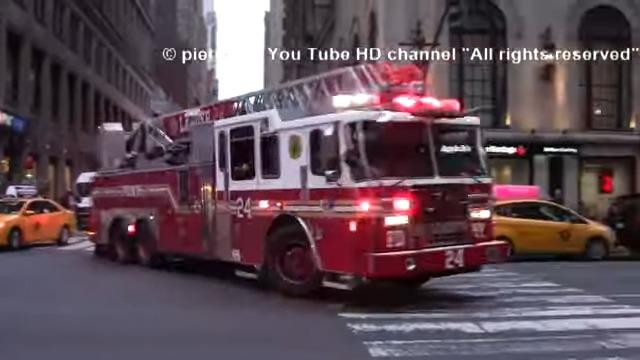Fire-engine: (83, 59, 510, 296)
